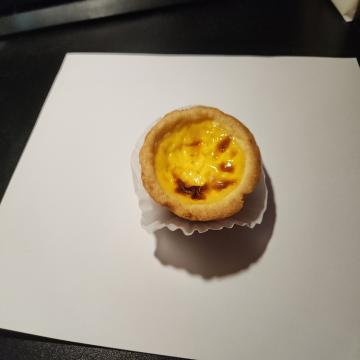EggTart: (138, 106, 261, 221)
